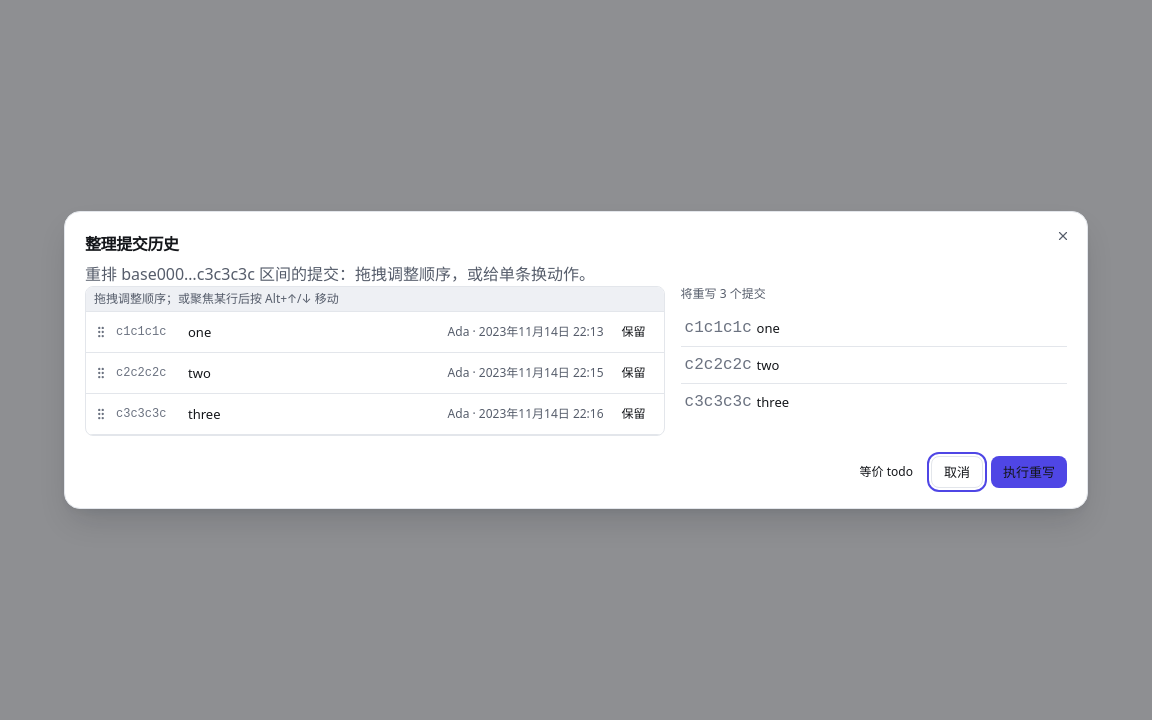
Rebase 面板 › 执行必须经确认框，发给后端的 steps 与界面一致，并展示快照与完成态
Check: the element with test id "rebase-preview" is shown, box [681,286,1067,420]
Click the button with test id "rebase-execute" at (1029, 472), box [991,456,1067,488]
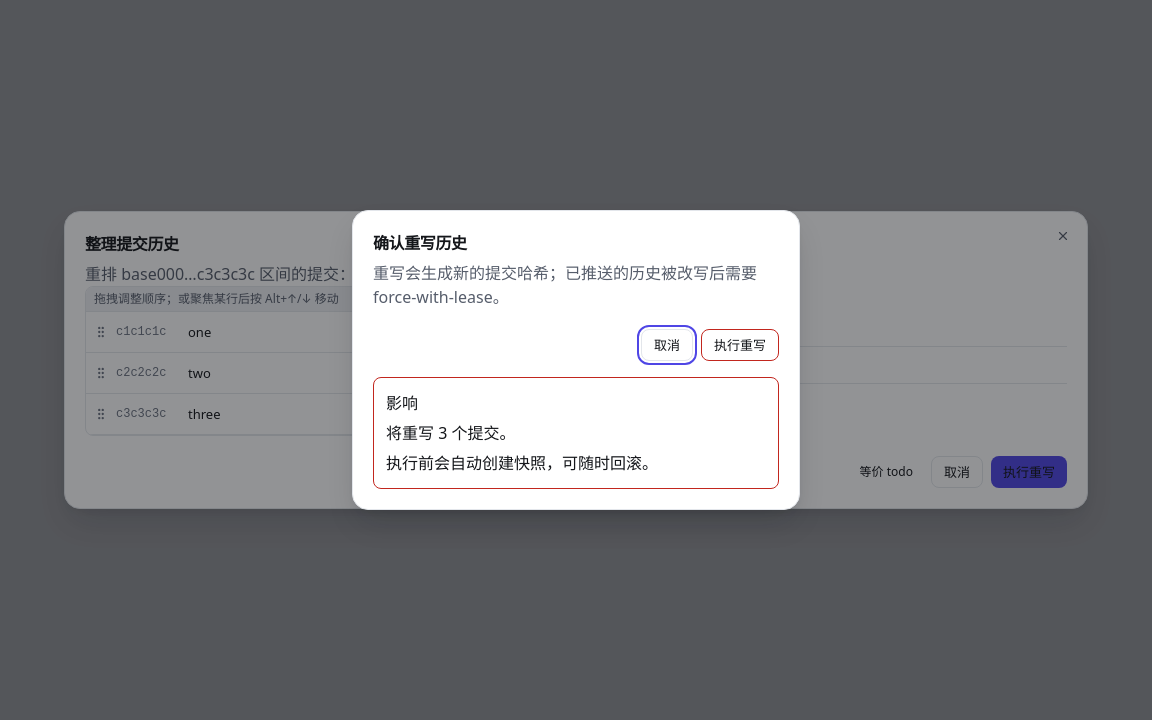
Click the button with test id "rebase-confirm-execute" at (740, 345), box [701,329,779,361]
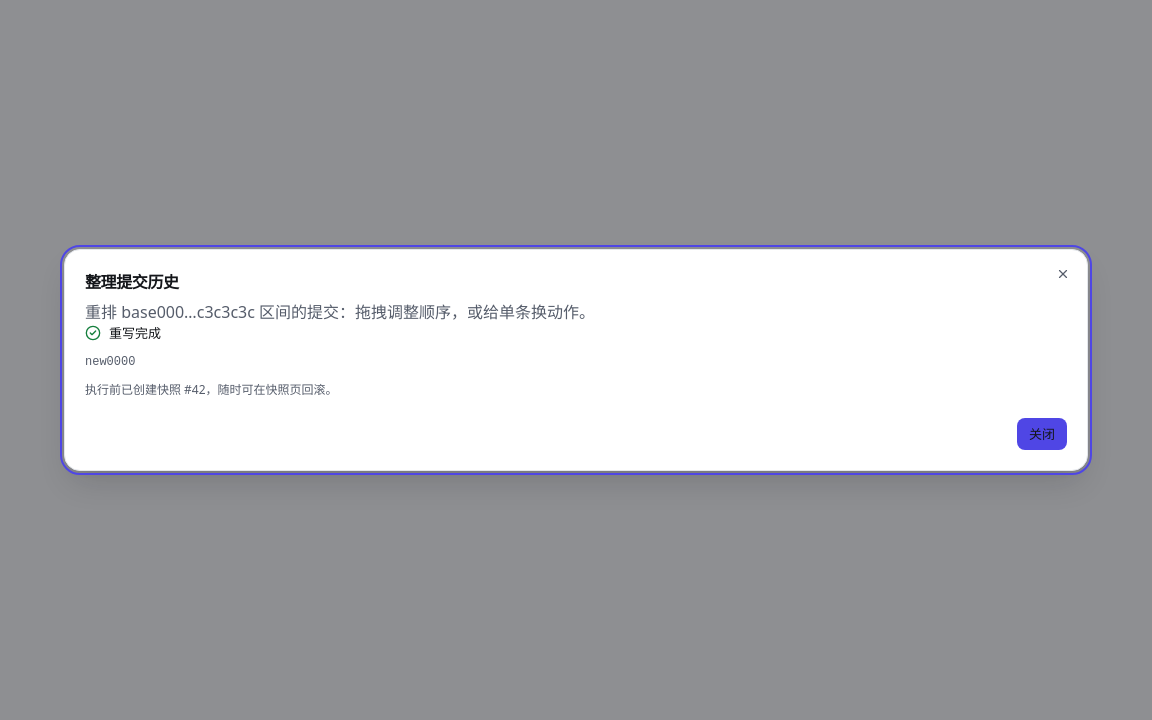
Check: the text with test id "rebase-snapshot-hint" shows "42", box [85,381,338,398]
